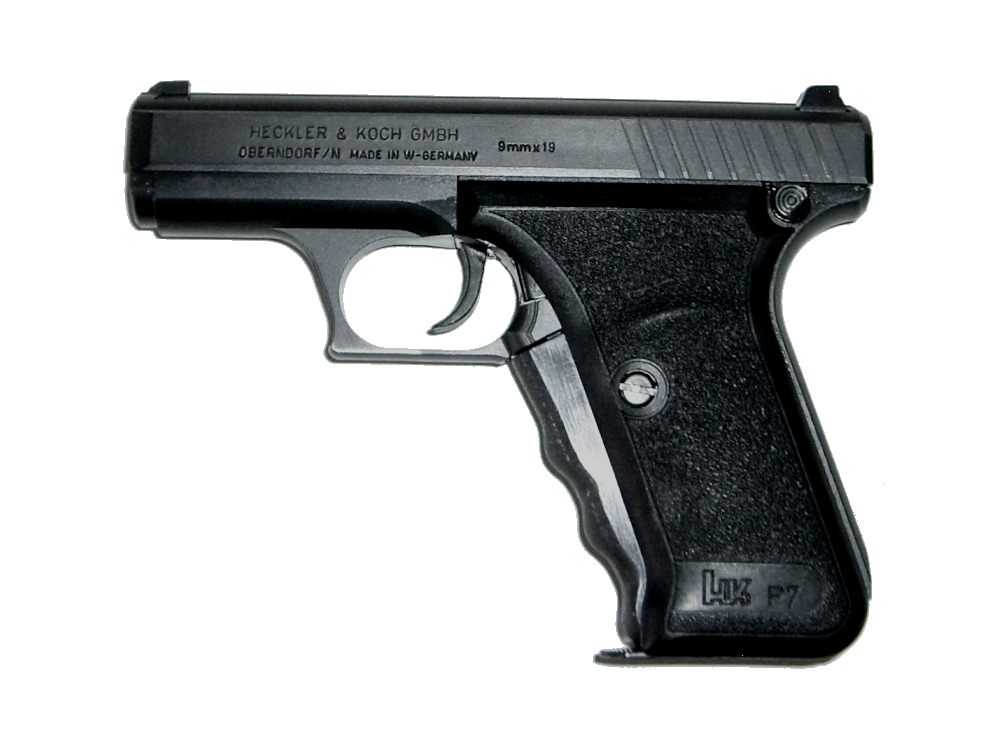Arma Real: (129, 78, 886, 673)
